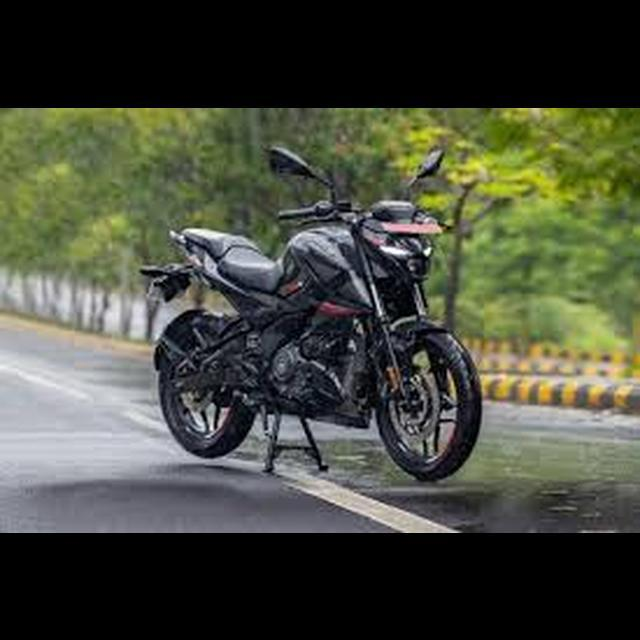motorcycle: (135, 139, 486, 487)
